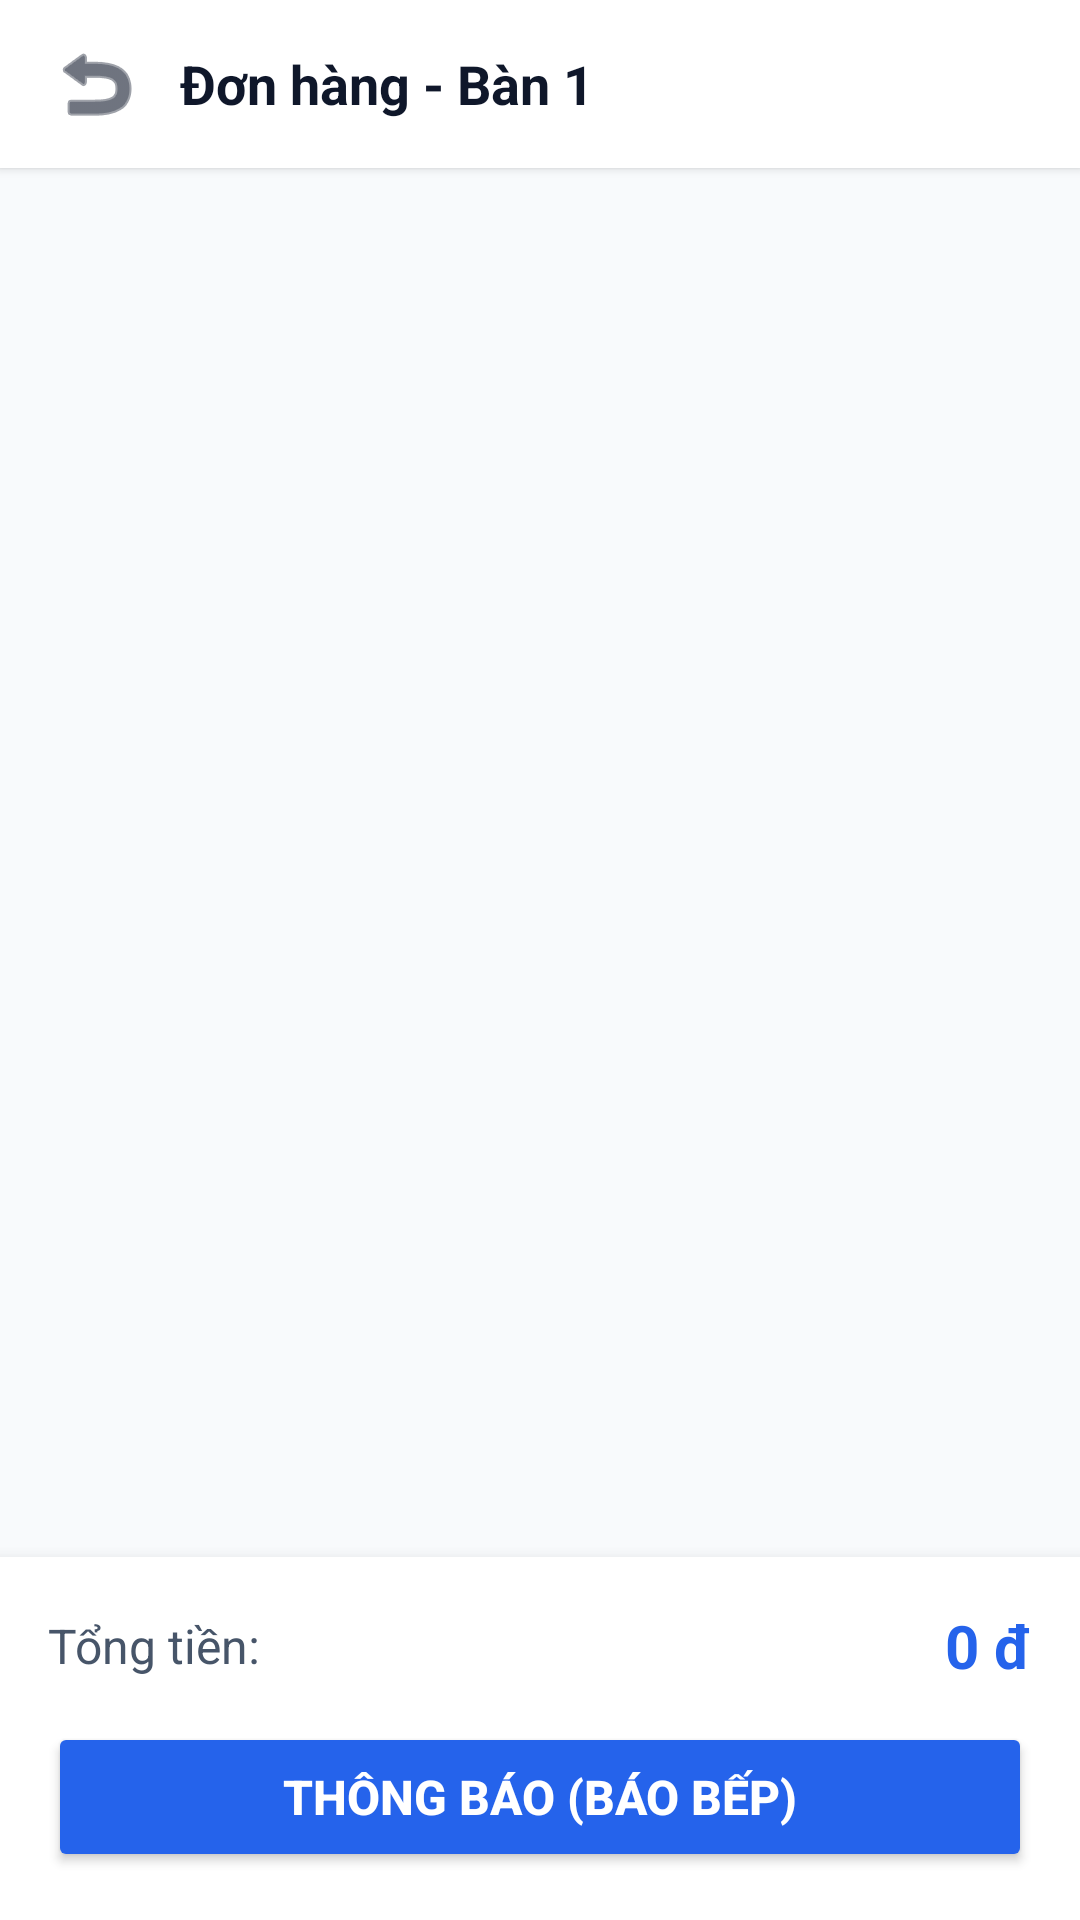

Locate icon controls on the screen. Image size 1080x1920, boxes as (x1, y1, x2, y2).
revert: (63, 53, 132, 116)
